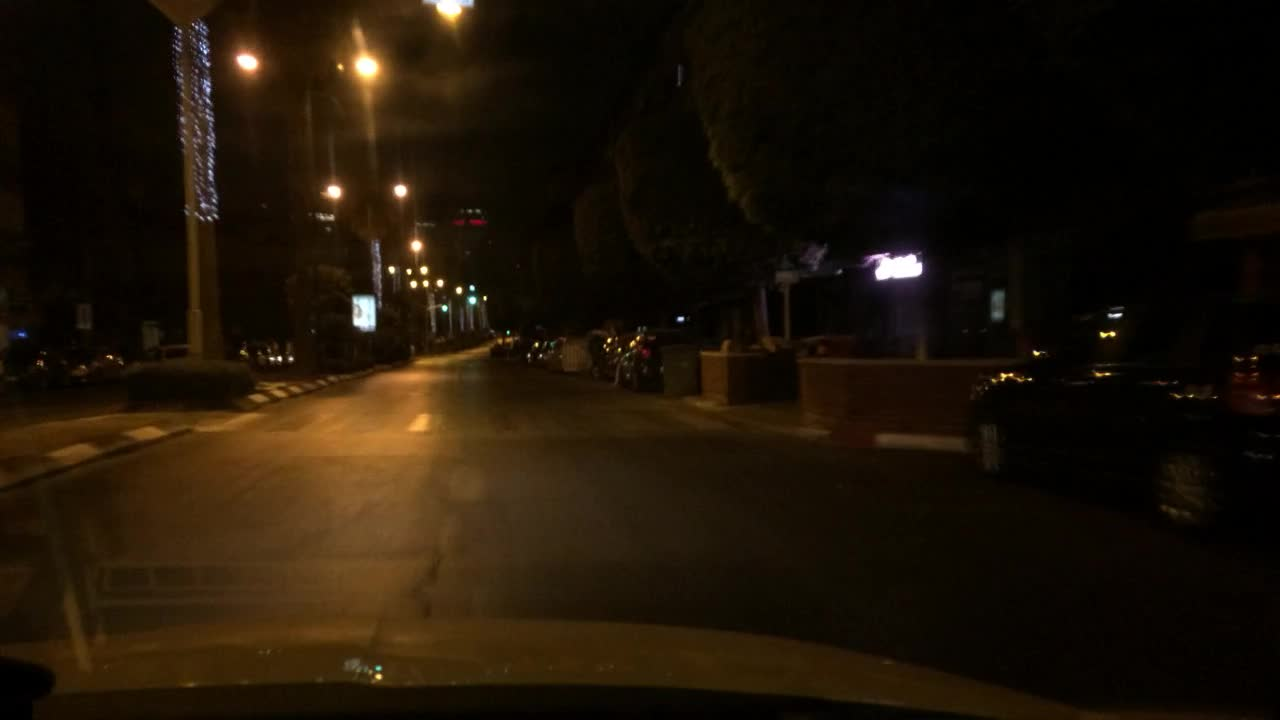car: (962, 299, 1279, 531), (0, 339, 84, 398), (617, 327, 690, 390), (69, 341, 128, 388), (590, 332, 636, 380), (135, 339, 189, 369), (538, 326, 567, 361), (224, 331, 253, 363), (248, 334, 270, 368), (266, 337, 287, 363), (523, 334, 543, 361), (280, 337, 297, 364)
